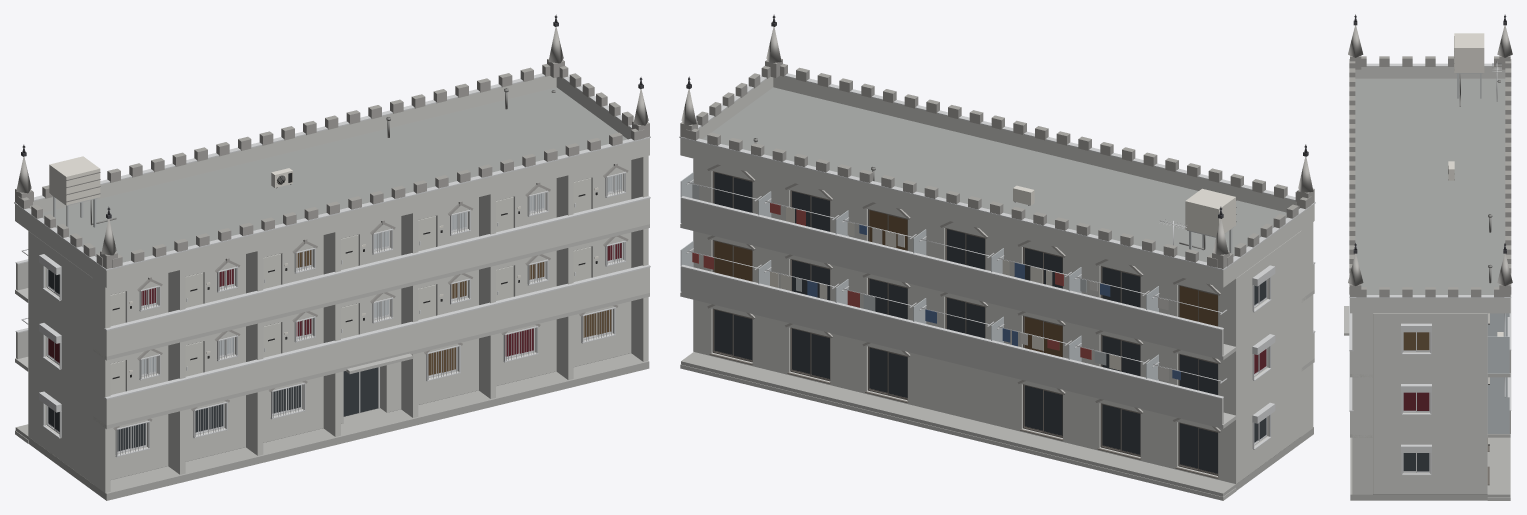
File: blk_tenements.glb
The picture shows the model from 3 angles, left to right: view 1: azimuth 30°, elevation 25°; view 2: azimuth 150°, elevation 25°; view 3: azimuth 270°, elevation 25°; orthographic projection. The views are drawn at different scales.
Parts seen in each view (by area): view 1: blk_tenements; view 2: blk_tenements; view 3: blk_tenements.
Boxes of the visible parts, bbox=[...] form: blk_tenements: bbox=[14, 14, 650, 500]; blk_tenements: bbox=[679, 14, 1315, 500]; blk_tenements: bbox=[1344, 14, 1512, 500].
Size of the model in its own units: 24.46 by 12.3 by 7.34.
